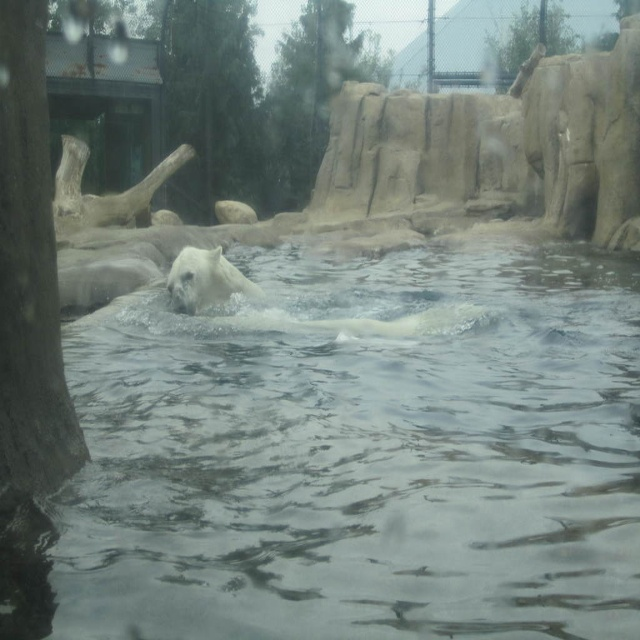Polar bear: (168, 244, 272, 319)
